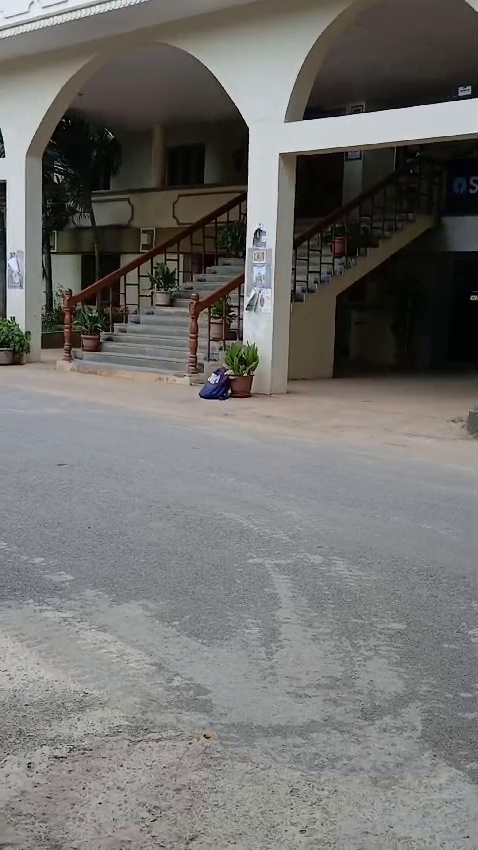bag: (200, 365, 219, 407)
